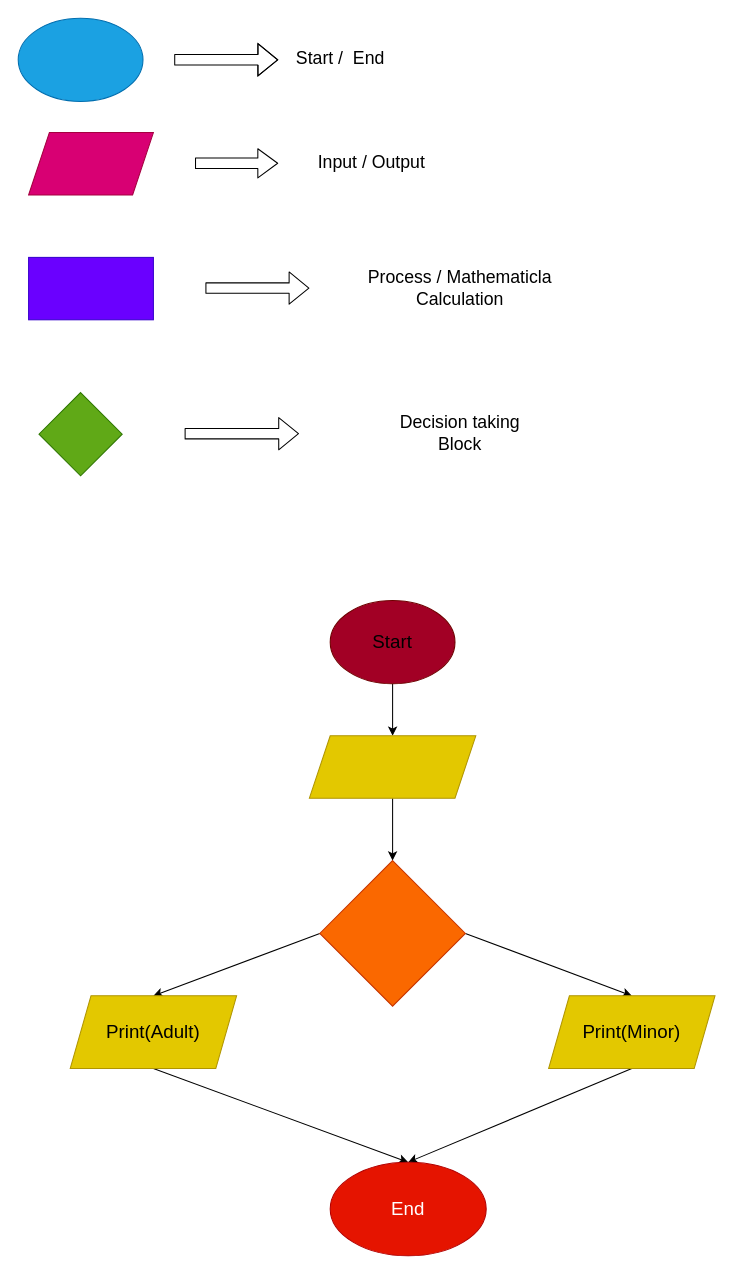
Some shapes in this 733 by 1274 pixel diagram are drawn without their labels. Here are the shapes that lost their labels. From the top down, the box of each, then its label:
(308, 735, 476, 798): Read (Age)
(319, 860, 465, 1006): If (AGE>=18)
